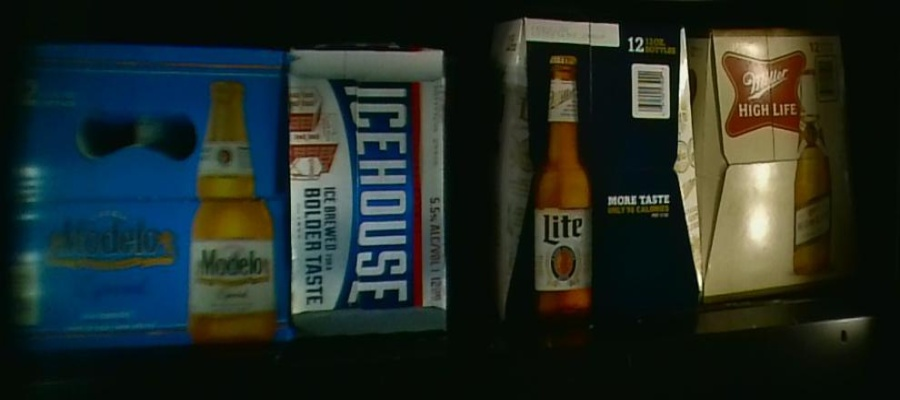bottle: (1, 47, 289, 341), (494, 19, 697, 317), (286, 47, 445, 333), (698, 26, 851, 306)
